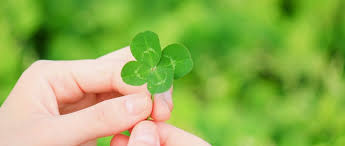4-clover: (121, 32, 195, 93)
